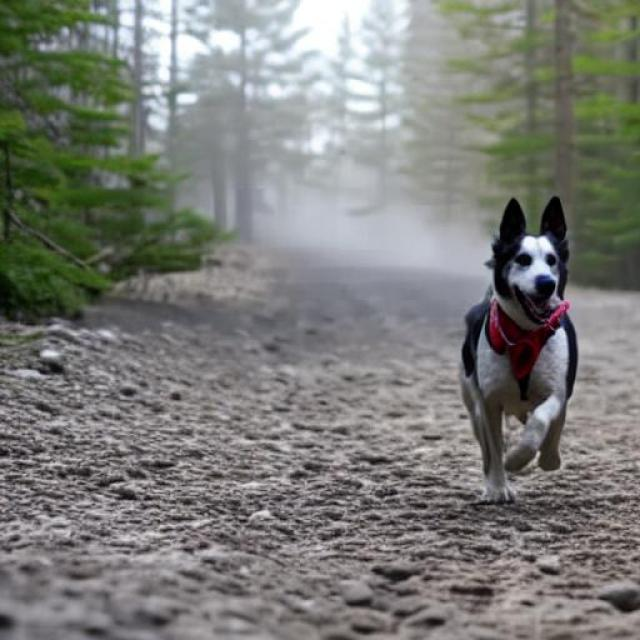Dog: (459, 194, 578, 504)
